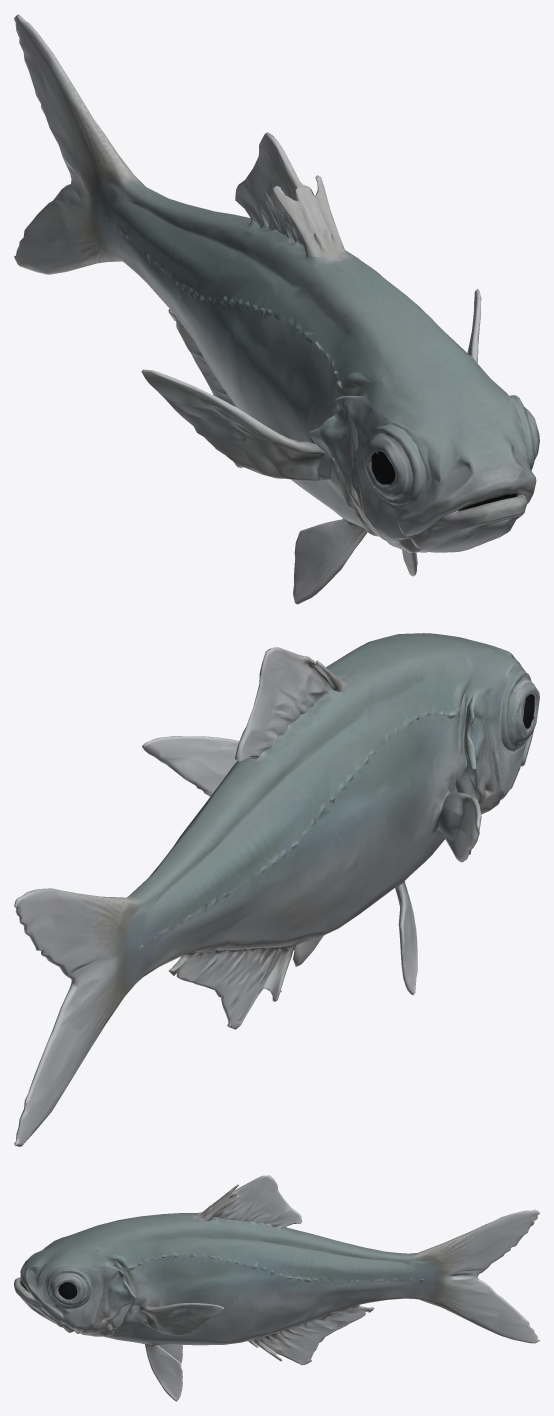
The model's file is fisch.glb.
The picture shows the model from 3 angles, top to bottom: view 1: azimuth 30°, elevation 25°; view 2: azimuth 150°, elevation 25°; view 3: azimuth 270°, elevation 25°; orthographic projection. The views are drawn at different scales.
Bounding box in the file's own units: 0.3956 × 0.4424 × 0.9995.
1 material, 1 textured.
